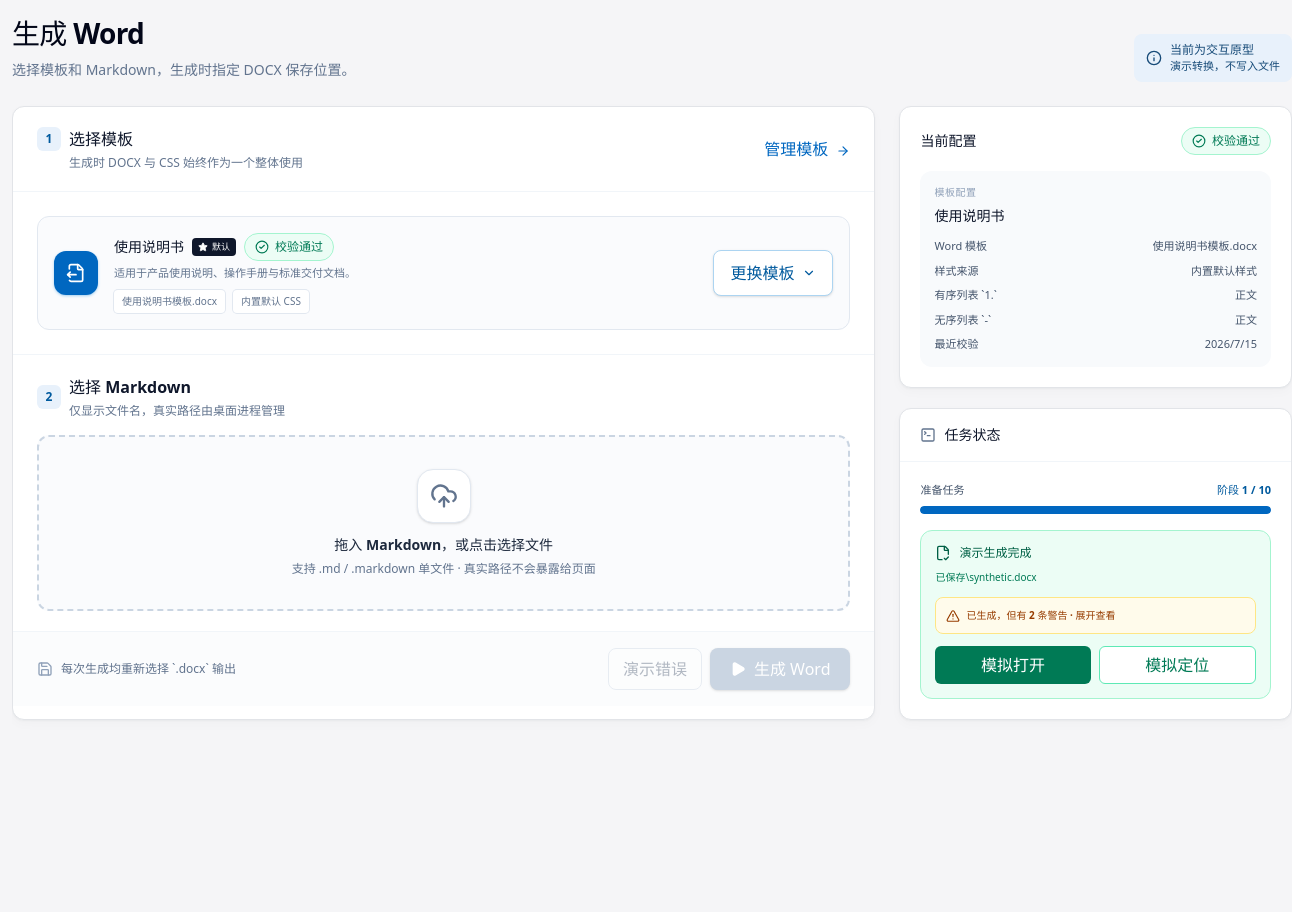
Test: GeneratePage template validation boundary › shows result warnings alongside a successful output
The width and height of the screenshot is (1292, 912).
expect the element named "转换警告" shows "已生成，但有 2 条警告": met, box 936,597 -> 1256,634
Click the heading "已生成，但有 2 条警告 · 展开查看".
click(1031, 615)  # box 946,608 -> 1116,622
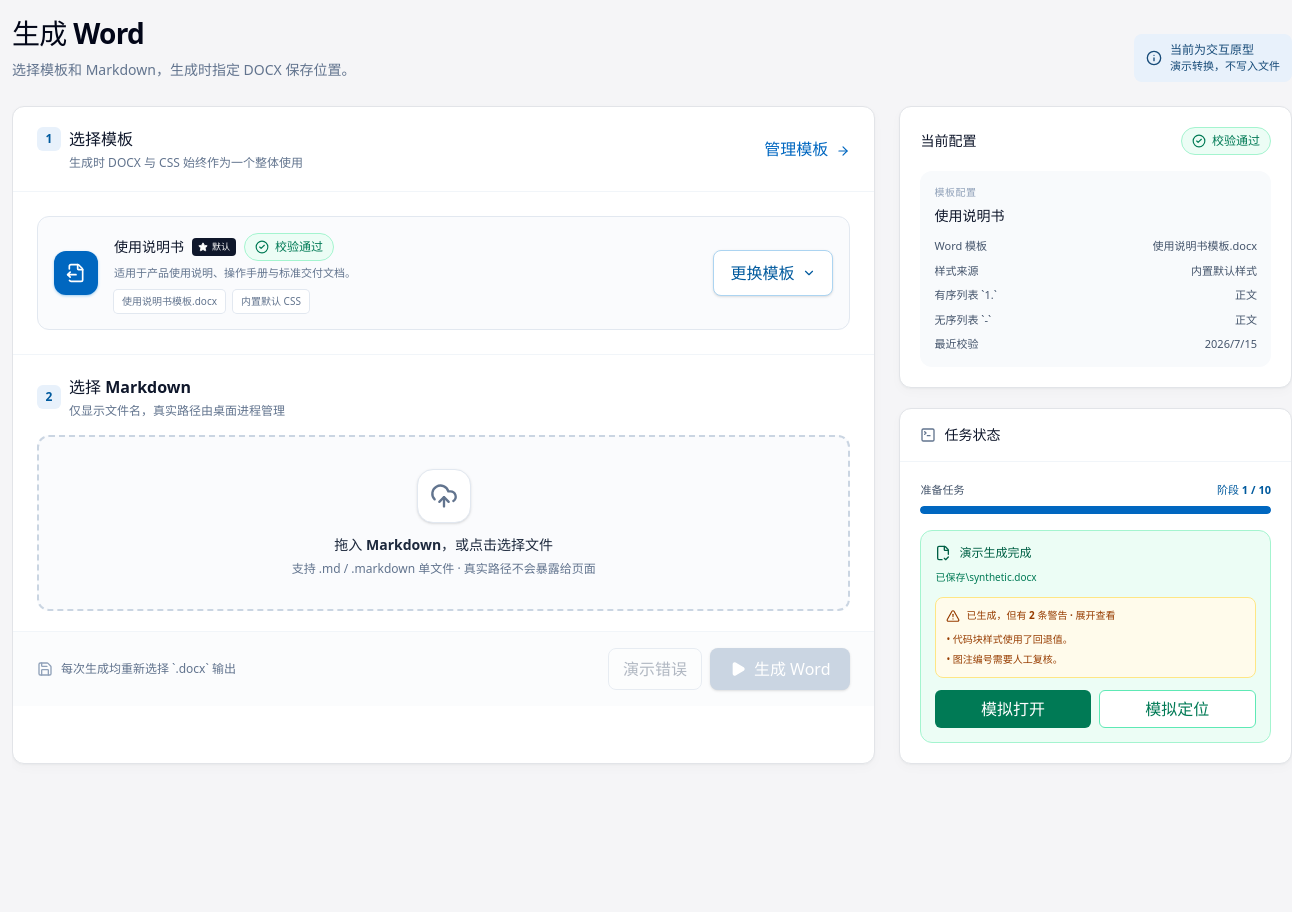
expect the element named "转换警告" shows "代码块样式使用了回退值。": met, box 953,632 -> 1073,646
expect the element named "转换警告" shows "图注编号需要人工复核。": met, box 953,652 -> 1063,666
